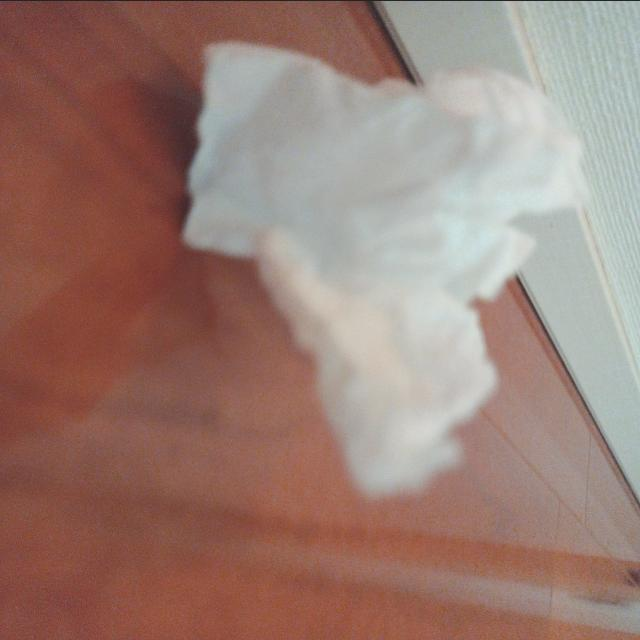Paper: (174, 38, 574, 500)
